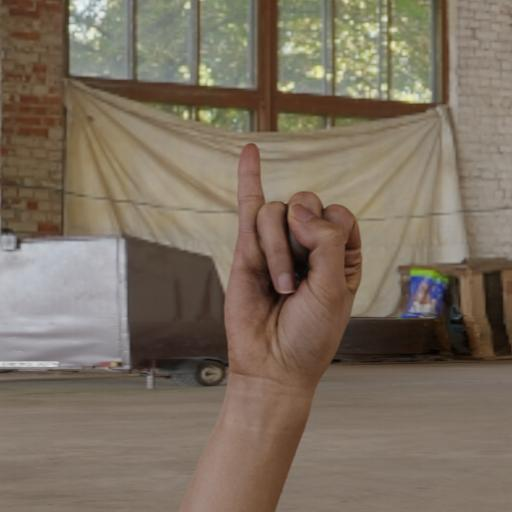I: (213, 137, 372, 392)
